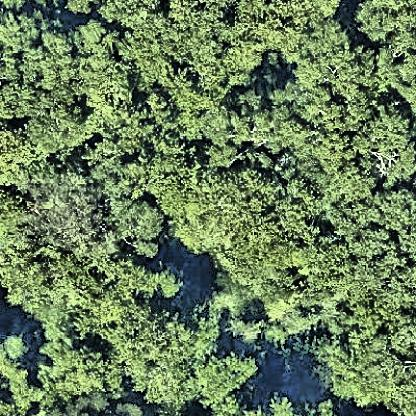tree-top: (124, 1, 253, 106), (159, 160, 281, 260), (126, 307, 211, 407), (13, 48, 95, 146), (346, 190, 416, 304), (292, 36, 373, 134), (323, 328, 406, 410), (101, 107, 177, 192), (248, 0, 345, 63), (0, 250, 92, 316), (41, 340, 123, 413), (30, 173, 101, 252), (97, 251, 186, 304), (295, 237, 359, 308), (194, 348, 263, 413), (358, 104, 414, 184), (270, 178, 326, 245), (106, 193, 170, 247), (350, 0, 416, 50), (0, 125, 48, 192), (202, 101, 249, 166), (0, 324, 36, 398), (1, 5, 43, 64), (70, 15, 117, 60), (0, 184, 31, 252), (258, 392, 336, 416), (395, 43, 416, 123)
